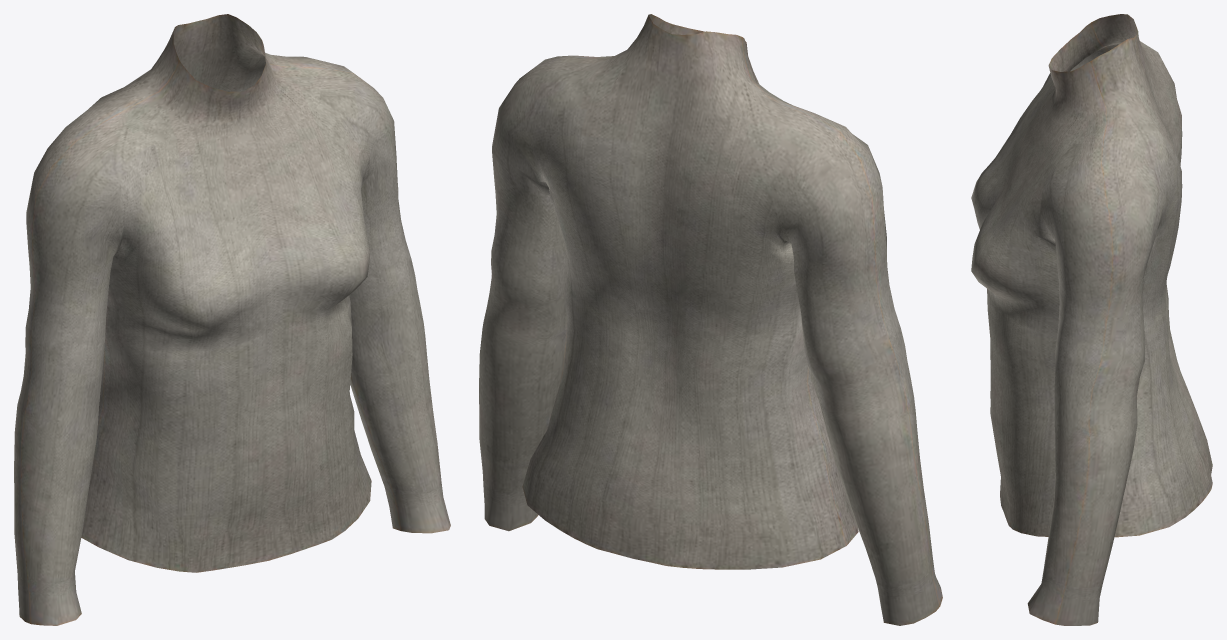
File: mindfront-knitted-sweater-01.glb
3 views of the same model, side by side, from view 1: azimuth 30°, elevation 25°; view 2: azimuth 150°, elevation 25°; view 3: azimuth 270°, elevation 25° (orthographic). The views are drawn at different scales.
Parts seen in each view (by area): view 1: Human.mindfront_knitted_sweater_01; view 2: Human.mindfront_knitted_sweater_01; view 3: Human.mindfront_knitted_sweater_01.
Part boxes in pixels (x1,y1,x2,y2): Human.mindfront_knitted_sweater_01: (14, 14, 450, 625); Human.mindfront_knitted_sweater_01: (479, 14, 942, 625); Human.mindfront_knitted_sweater_01: (971, 14, 1212, 625).
Bounding box in the file's own units: 0.5239 × 0.6366 × 0.2742.
1 material, 1 textured.
